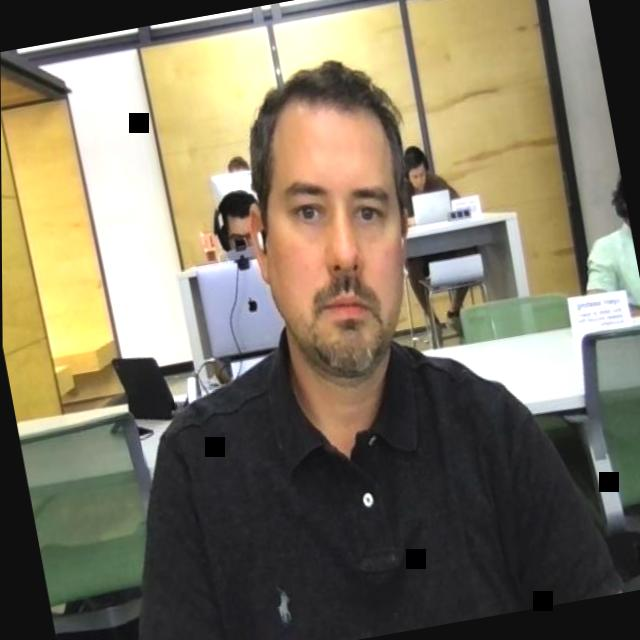NO-Mask: (228, 54, 445, 382), (605, 158, 635, 255), (399, 145, 435, 195)
